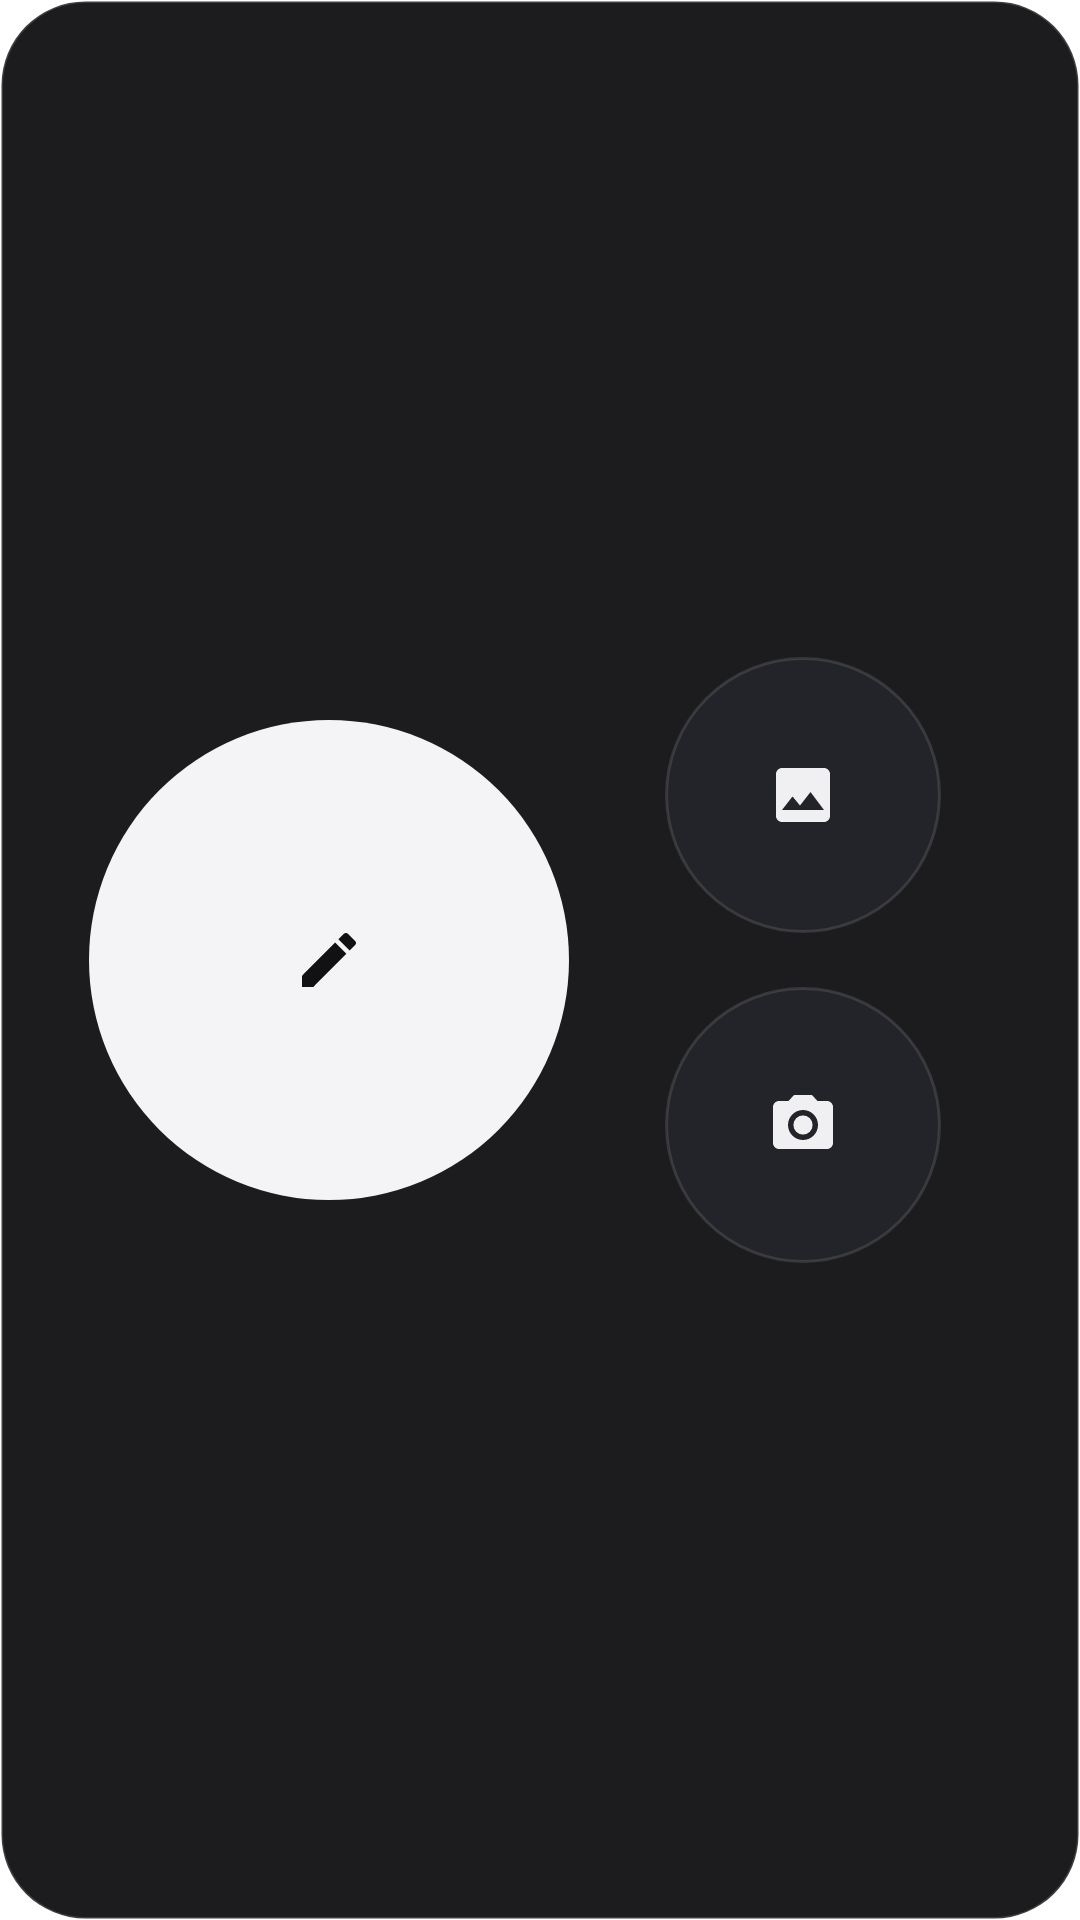

Icon bounding boxes for this 1080 x 1920 phone screenshot, format (x1, y1, x2, y2):
widget camera: (773, 1095, 833, 1149)
widget gallery: (776, 768, 830, 822)
widget pen: (302, 933, 356, 987)
